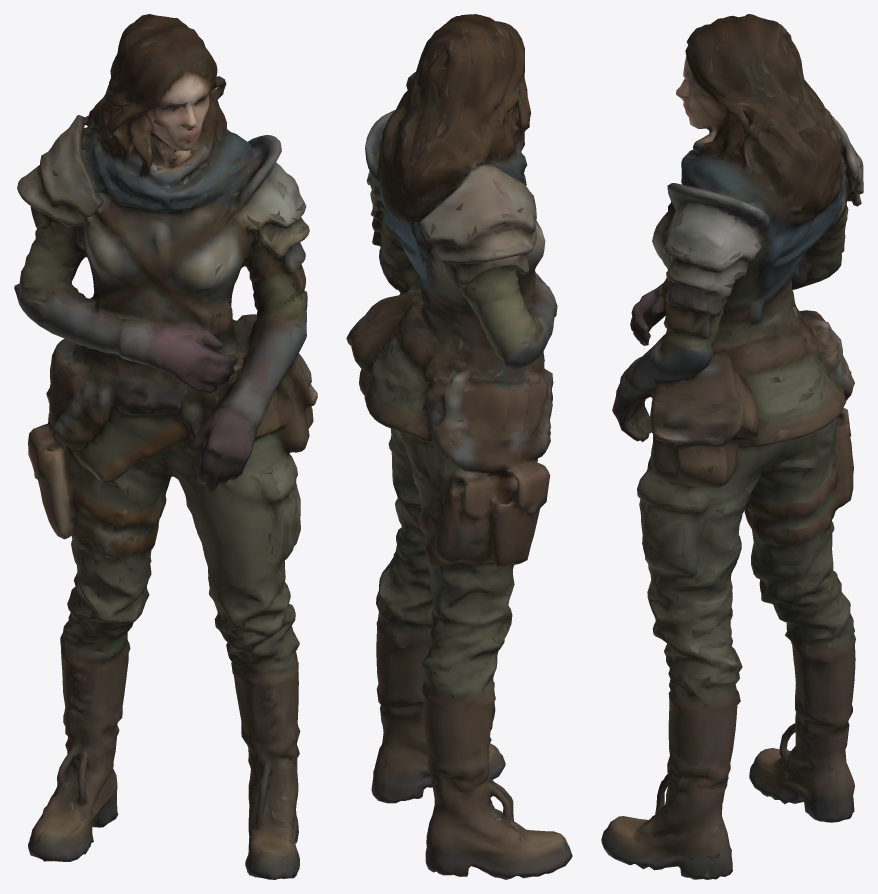
Rendered from Charlie_final.glb.
The picture shows the model from 3 angles, left to right: view 1: azimuth 30°, elevation 25°; view 2: azimuth 150°, elevation 25°; view 3: azimuth 270°, elevation 25°; orthographic projection.
Parts seen in each view (by area): view 1: Mesh1.0; view 2: Mesh1.0; view 3: Mesh1.0.
Boxes of the visible parts, x1,y1,x2,y2 form: Mesh1.0: [14, 14, 317, 879]; Mesh1.0: [346, 14, 572, 879]; Mesh1.0: [601, 14, 863, 879].
Size of the model in its own units: 0.5261 by 1.7 by 0.4987.
Materials: 1 (1 with a texture image).
